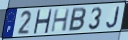2: (17, 10, 33, 36)
3: (88, 6, 103, 31)
B: (67, 7, 87, 32)
H: (32, 9, 54, 34), (50, 8, 71, 33)
J: (106, 6, 121, 29)
